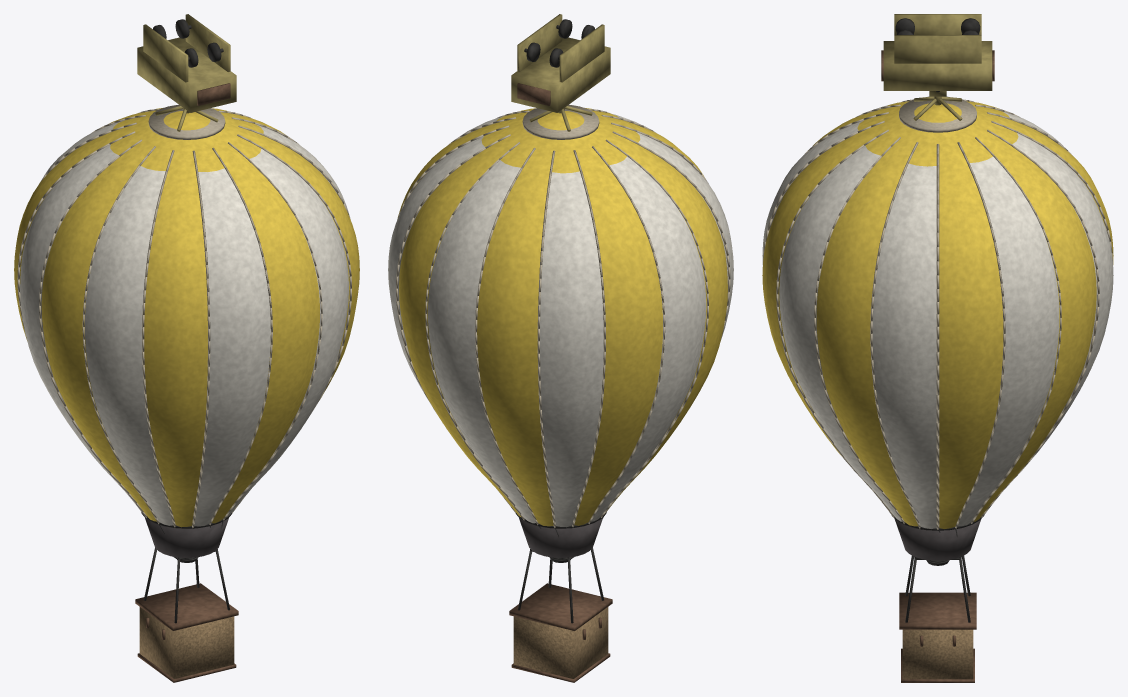
Rendered from BalloonRail_Yellow.fbx.
3 renders of one model, left to right at view 1: azimuth 30°, elevation 25°; view 2: azimuth 150°, elevation 25°; view 3: azimuth 270°, elevation 25°, orthographic. The views are drawn at different scales.
Parts seen in each view (by area): view 1: Swing_S_Envelope_Yellow, Swing_S_EnvelopeStripe_Yellow, Swing_S_Rope, Static_S_Bogie, Swing_S_Wicker, Swing_S_Leather, Swing_S_SkirtDark, Swing_S_SteelWorn, Static_S_SteelWorn, Static_S_Leather; view 2: Swing_S_Envelope_Yellow, Swing_S_EnvelopeStripe_Yellow, Swing_S_Rope, Static_S_Bogie, Swing_S_Wicker, Swing_S_Leather, Swing_S_SkirtDark, Swing_S_SteelWorn, Static_S_SteelWorn, Static_S_Leather; view 3: Swing_S_Envelope_Yellow, Swing_S_EnvelopeStripe_Yellow, Swing_S_Rope, Static_S_Bogie, Swing_S_Wicker, Swing_S_Leather, Swing_S_SkirtDark, Swing_S_SteelWorn, Static_S_SteelWorn.
Part boxes in pixels (box(x1,y1,x2,y2)): Swing_S_Envelope_Yellow: box(14, 108, 359, 527); Swing_S_EnvelopeStripe_Yellow: box(20, 111, 350, 526); Swing_S_Rope: box(17, 104, 351, 527); Static_S_Bogie: box(137, 14, 236, 112); Swing_S_Wicker: box(139, 607, 234, 678); Swing_S_Leather: box(135, 583, 238, 682); Swing_S_SkirtDark: box(145, 518, 228, 557); Swing_S_SteelWorn: box(141, 512, 231, 623); Static_S_SteelWorn: box(153, 19, 223, 67); Static_S_Leather: box(197, 83, 230, 105); Swing_S_Envelope_Yellow: box(397, 108, 727, 526); Swing_S_EnvelopeStripe_Yellow: box(388, 113, 733, 527); Swing_S_Rope: box(396, 104, 730, 527); Static_S_Bogie: box(511, 14, 610, 112); Swing_S_Wicker: box(513, 607, 608, 678); Swing_S_Leather: box(509, 583, 612, 682); Swing_S_SkirtDark: box(519, 518, 602, 557); Swing_S_SteelWorn: box(516, 512, 606, 623); Static_S_SteelWorn: box(524, 19, 594, 67); Static_S_Leather: box(517, 83, 550, 105); Swing_S_Envelope_Yellow: box(762, 101, 1113, 528); Swing_S_EnvelopeStripe_Yellow: box(762, 103, 1113, 528); Swing_S_Rope: box(763, 96, 1112, 529); Static_S_Bogie: box(883, 14, 992, 96); Swing_S_Wicker: box(902, 629, 973, 679); Swing_S_Leather: box(899, 592, 976, 682); Swing_S_SkirtDark: box(894, 519, 981, 560); Swing_S_SteelWorn: box(891, 515, 984, 622); Static_S_SteelWorn: box(895, 18, 980, 92).
Size of the model in its own units: 6.45 by 13.03 by 6.45.
